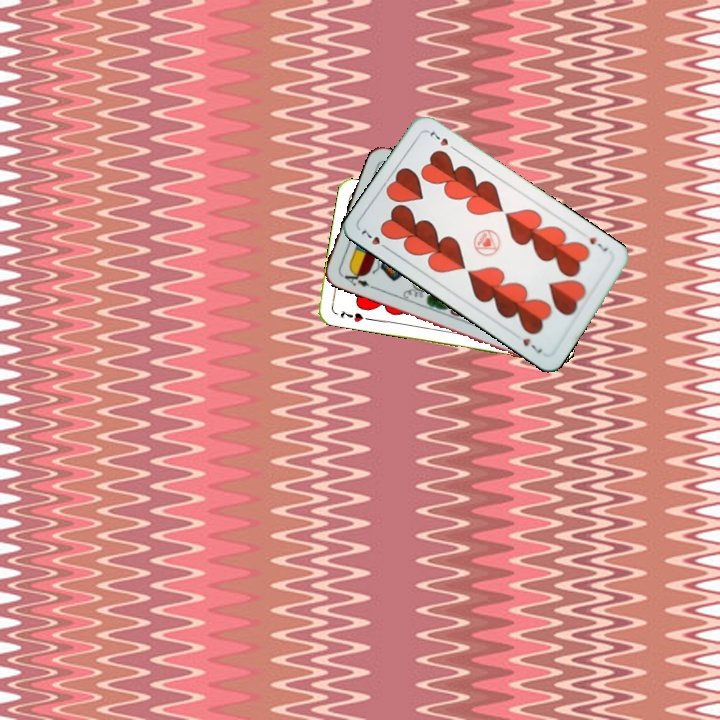EA: (337, 266, 376, 291)
H7: (357, 226, 392, 253), (585, 233, 611, 255), (336, 307, 366, 325)
